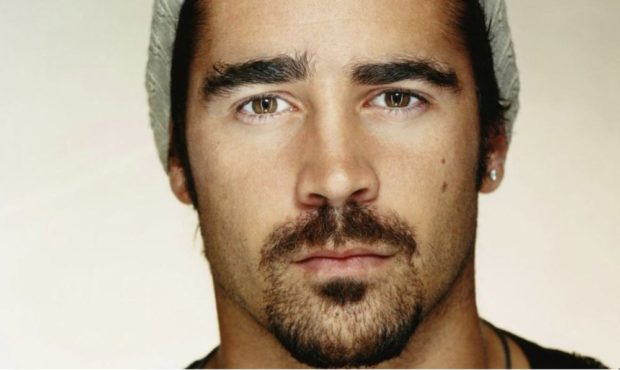beard: (253, 212, 433, 363)
